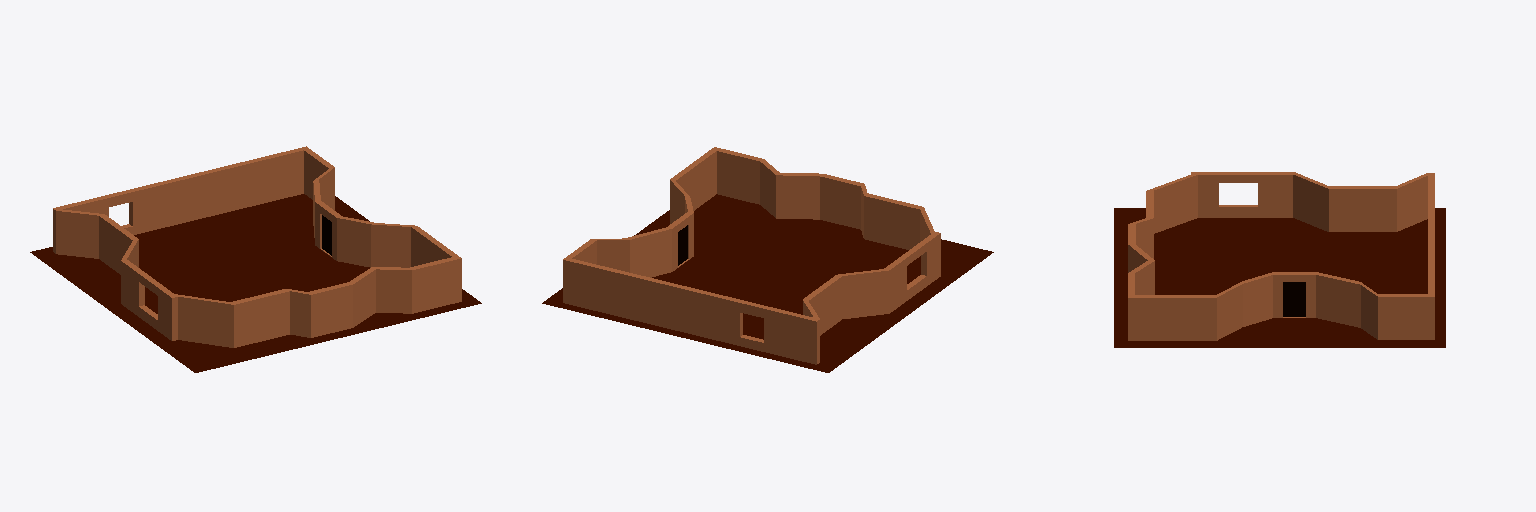
File: sale2.obj
The picture shows the model from 3 angles: view 1: azimuth 30°, elevation 25°; view 2: azimuth 150°, elevation 25°; view 3: azimuth 270°, elevation 25°; orthographic projection.
Visible parts, largest first — view 1: Plane; view 2: Plane; view 3: Plane.
Part boxes in pixels (left/top/right/bottom): Plane: left=30, top=146, right=481, bottom=372; Plane: left=542, top=147, right=993, bottom=372; Plane: left=1114, top=172, right=1445, bottom=347.
Bounding box in the file's own units: 13.85 × 2.01 × 13.85.